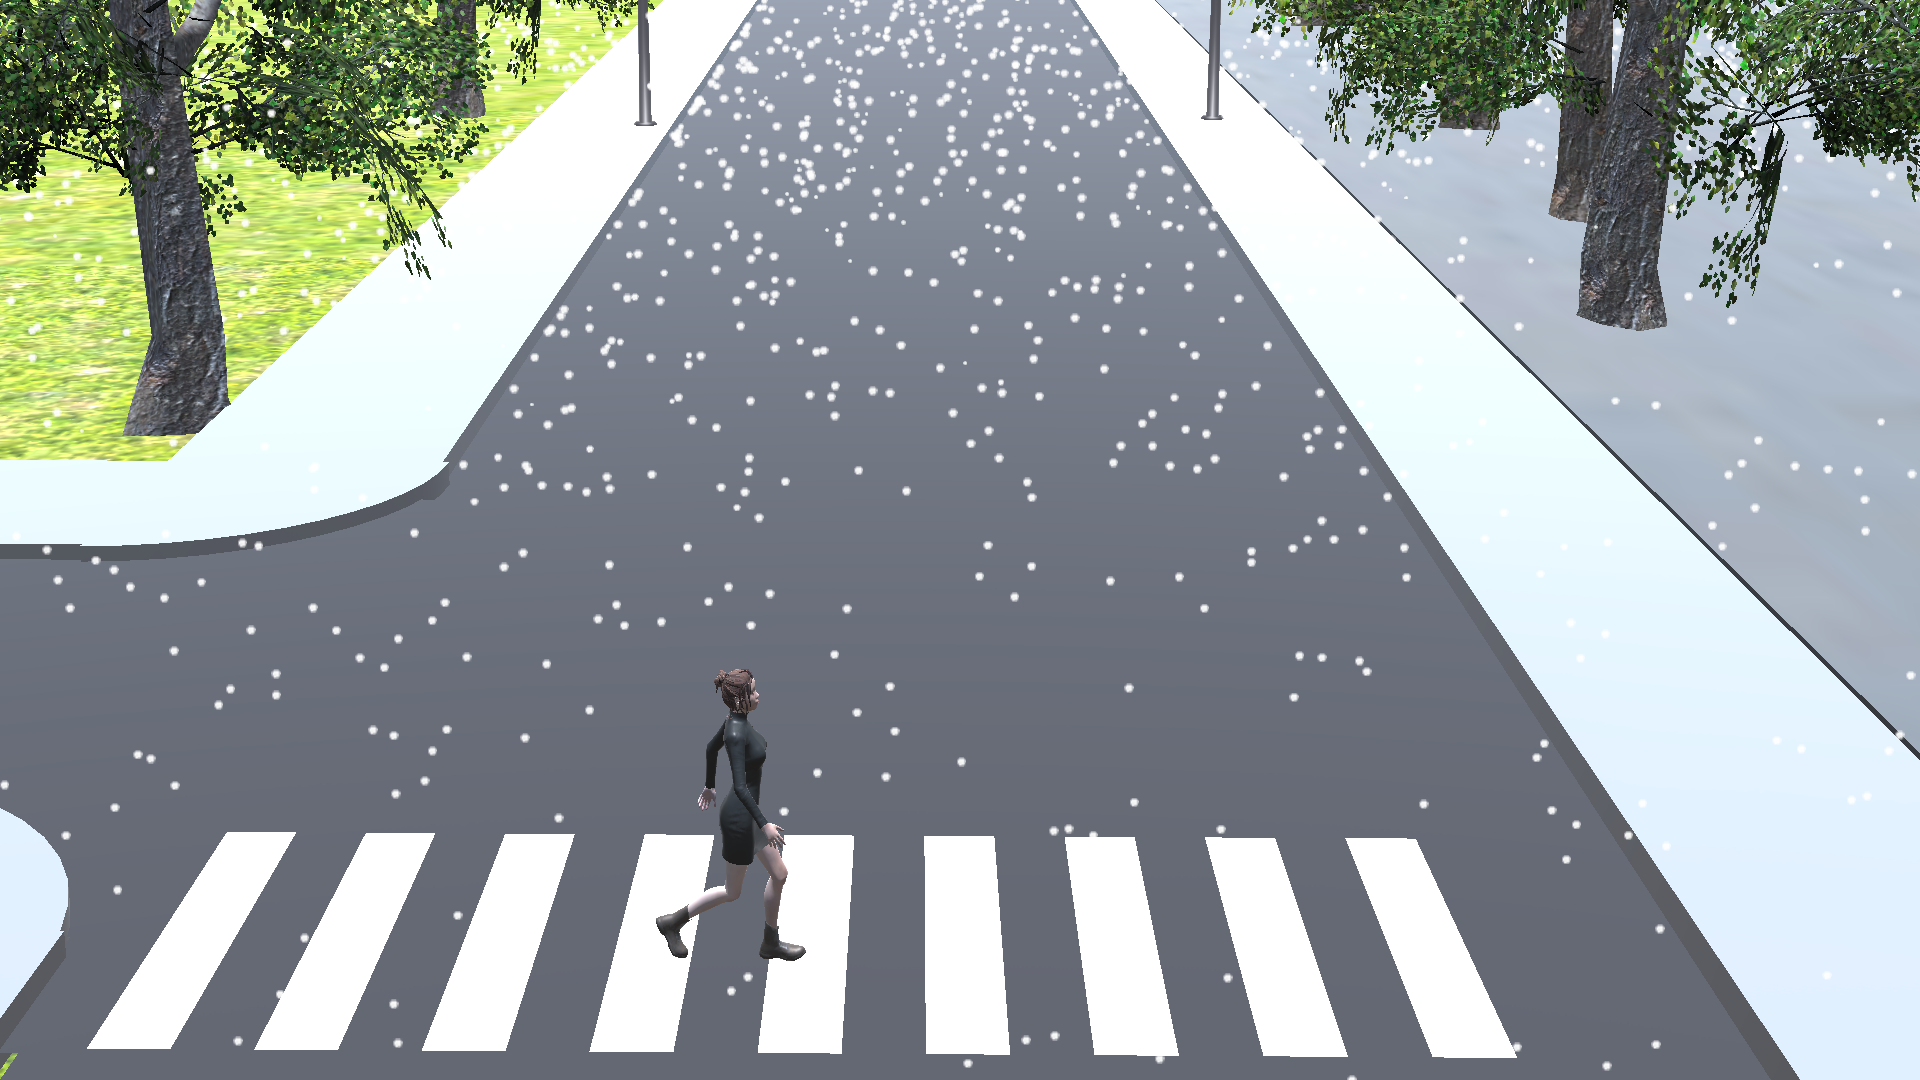pedestrian: (643, 654, 821, 975)
